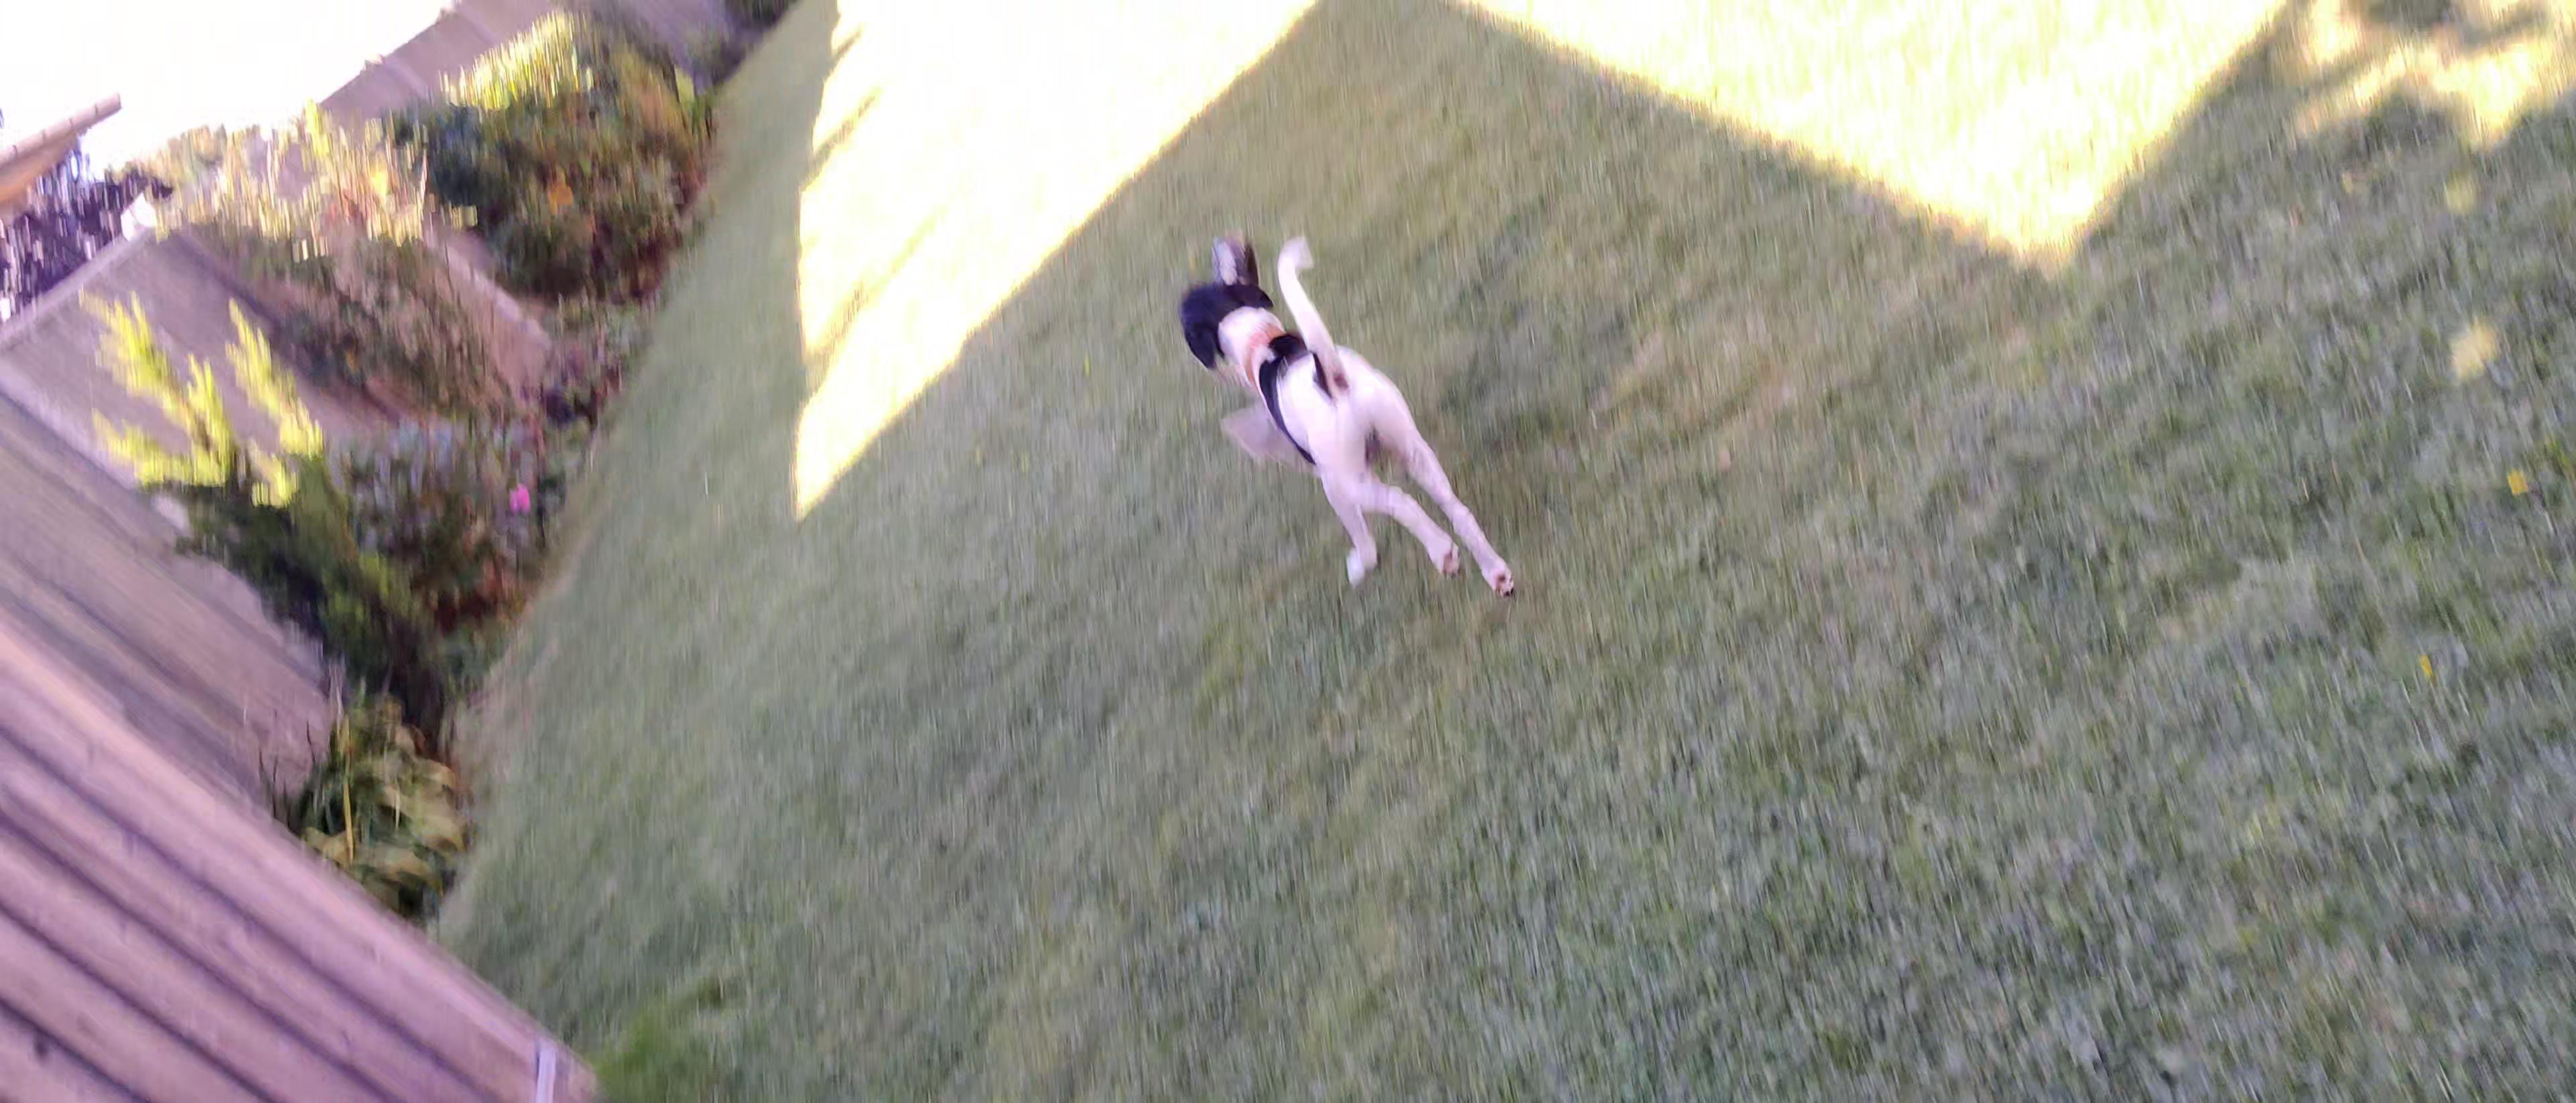Dog: (1170, 228, 1523, 608)
